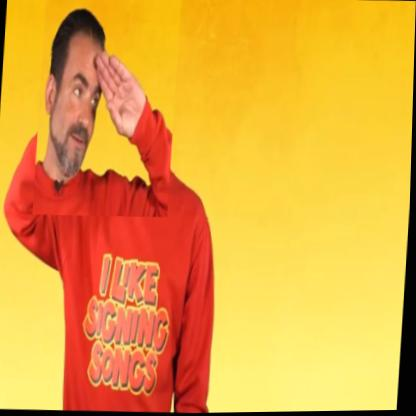Hello: (33, 0, 181, 220)
